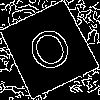O: (24, 24, 80, 83)
